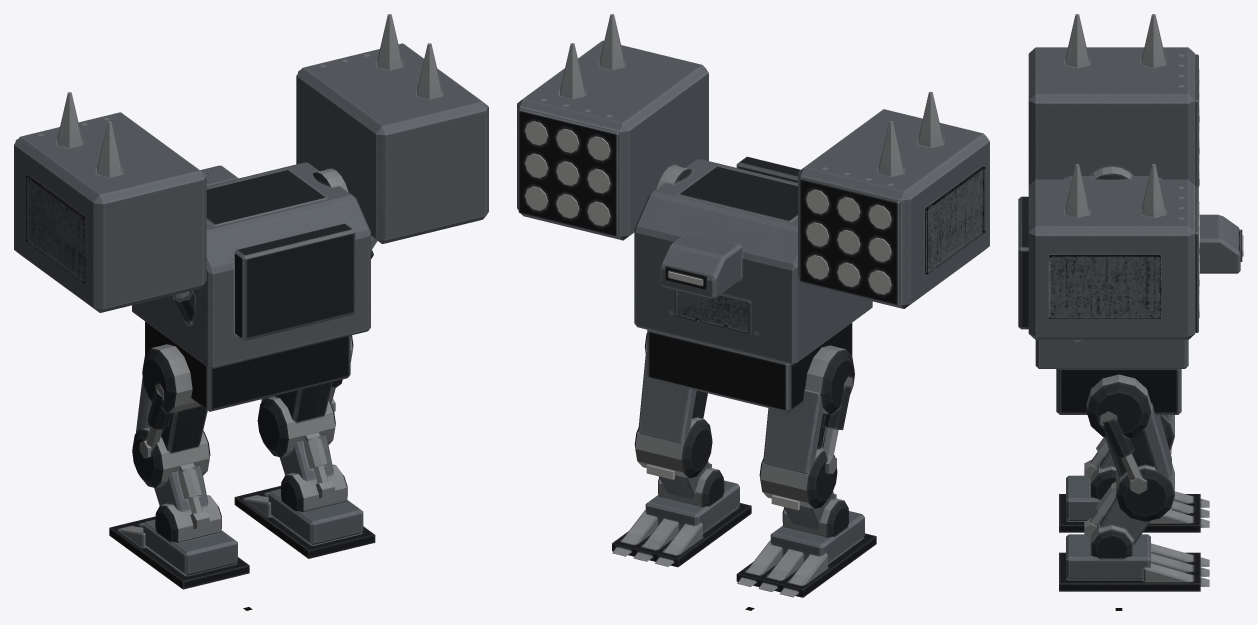
Rendered from chs_pandemonium.fbx.
3 renders of one model, left to right at view 1: azimuth 30°, elevation 25°; view 2: azimuth 150°, elevation 25°; view 3: azimuth 270°, elevation 25°, orthographic. The views are drawn at different scales.
Visible parts, largest first — view 1: torso_bar, thighL_bar, base_bar, footR_bar, footL_bar, thighR_bar, shinL_bar, shinR_bar; view 2: torso_bar, thighL_bar, base_bar, torso_glow_weapon_bar, thighR_bar, footL_bar, footR_bar, shinR_bar, shinL_bar; view 3: torso_bar, thighR_bar, footR_bar, base_bar, footL_bar, shinR_bar, shinL_bar, thighL_bar.
Boxes of the visible parts, x1,y1,x2,y2 form: torso_bar: [14, 14, 488, 369]; thighL_bar: [132, 344, 210, 488]; base_bar: [145, 321, 350, 411]; footR_bar: [234, 486, 375, 558]; footL_bar: [109, 516, 249, 589]; thighR_bar: [257, 335, 353, 457]; shinL_bar: [154, 463, 221, 542]; shinR_bar: [279, 432, 347, 511]; torso_bar: [517, 14, 989, 365]; thighL_bar: [759, 345, 854, 508]; base_bar: [647, 323, 852, 412]; torso_glow_weapon_bar: [525, 121, 891, 294]; thighR_bar: [634, 333, 712, 478]; footL_bar: [736, 511, 876, 597]; footR_bar: [612, 480, 751, 567]; shinR_bar: [658, 461, 724, 507]; shinL_bar: [782, 491, 848, 537]; torso_bar: [1018, 14, 1242, 368]; thighR_bar: [1086, 374, 1174, 521]; footR_bar: [1059, 534, 1209, 591]; base_bar: [1056, 369, 1181, 414]; footL_bar: [1059, 475, 1209, 532]; shinR_bar: [1084, 481, 1150, 558]; shinL_bar: [1084, 437, 1116, 499]; thighL_bar: [1160, 415, 1174, 450].
Bounding box in the file's own units: 1276 × 1650 × 649.
Materials: 2 (2 with a texture image).
